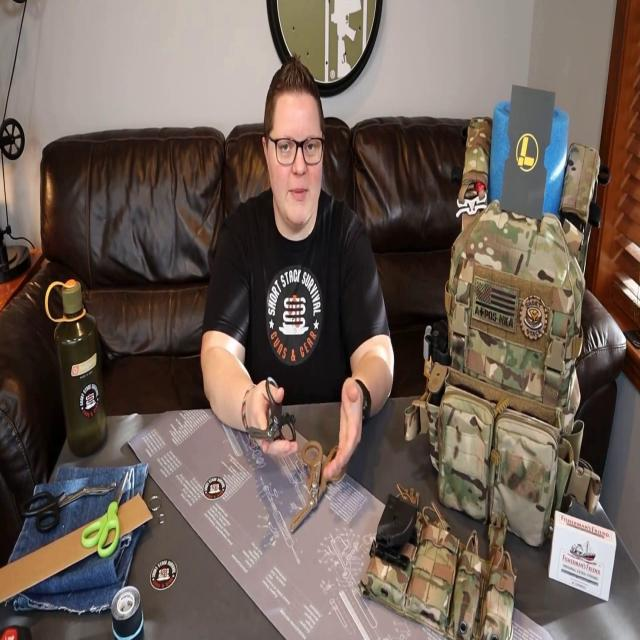scissor: (19, 478, 116, 532), (290, 438, 344, 532), (81, 469, 128, 558), (248, 376, 296, 447)
